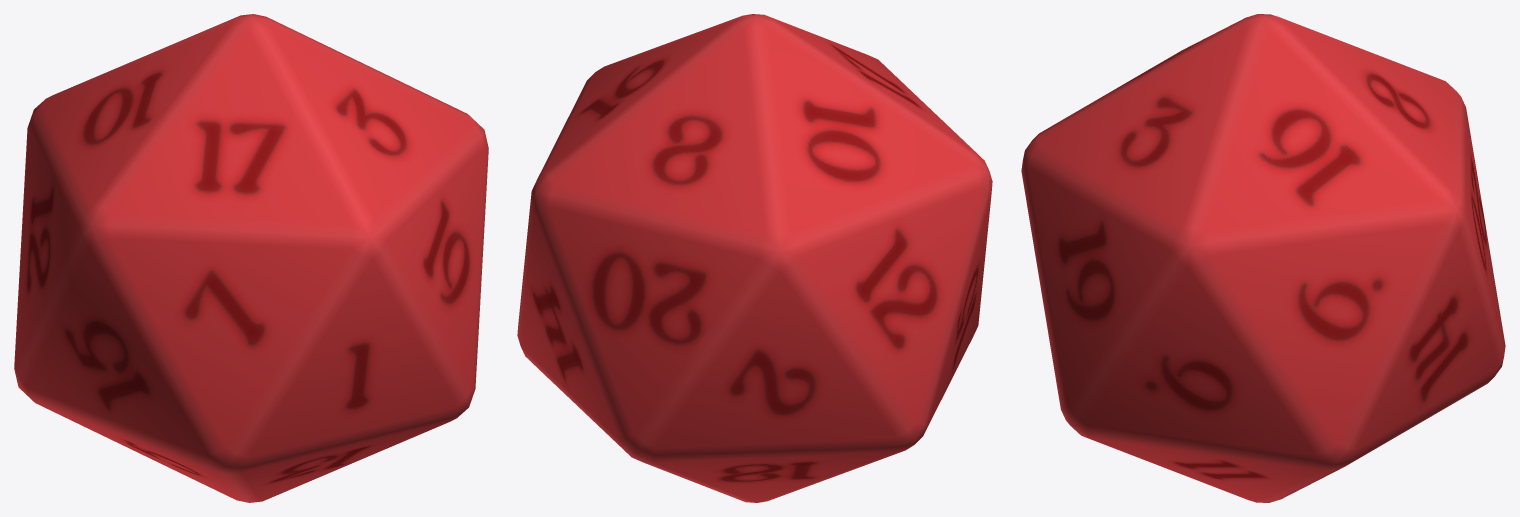
The model's file is D20_red.obj.
3 views of the same model, side by side, from view 1: azimuth 30°, elevation 25°; view 2: azimuth 150°, elevation 25°; view 3: azimuth 270°, elevation 25° (orthographic).
Visible parts, largest first — view 1: D20_red; view 2: D20_red; view 3: D20_red.
Part boxes in pixels (box(x1,y1,x2,y2)): D20_red: box(14, 14, 488, 502); D20_red: box(517, 14, 992, 502); D20_red: box(1021, 14, 1505, 502).
Bounding box in the file's own units: 0.8402 × 0.9648 × 0.8757.
Materials: 1 (1 with a texture image).
